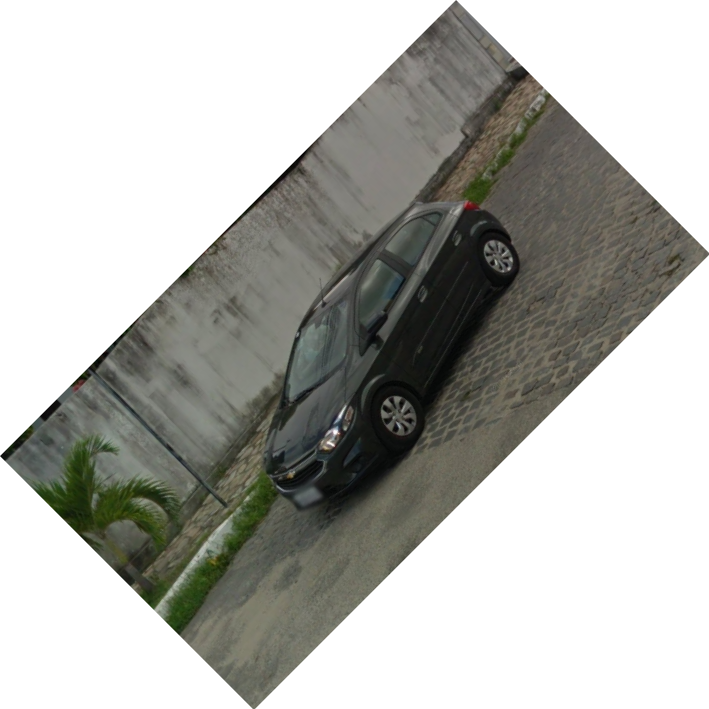car: (261, 194, 522, 524)
